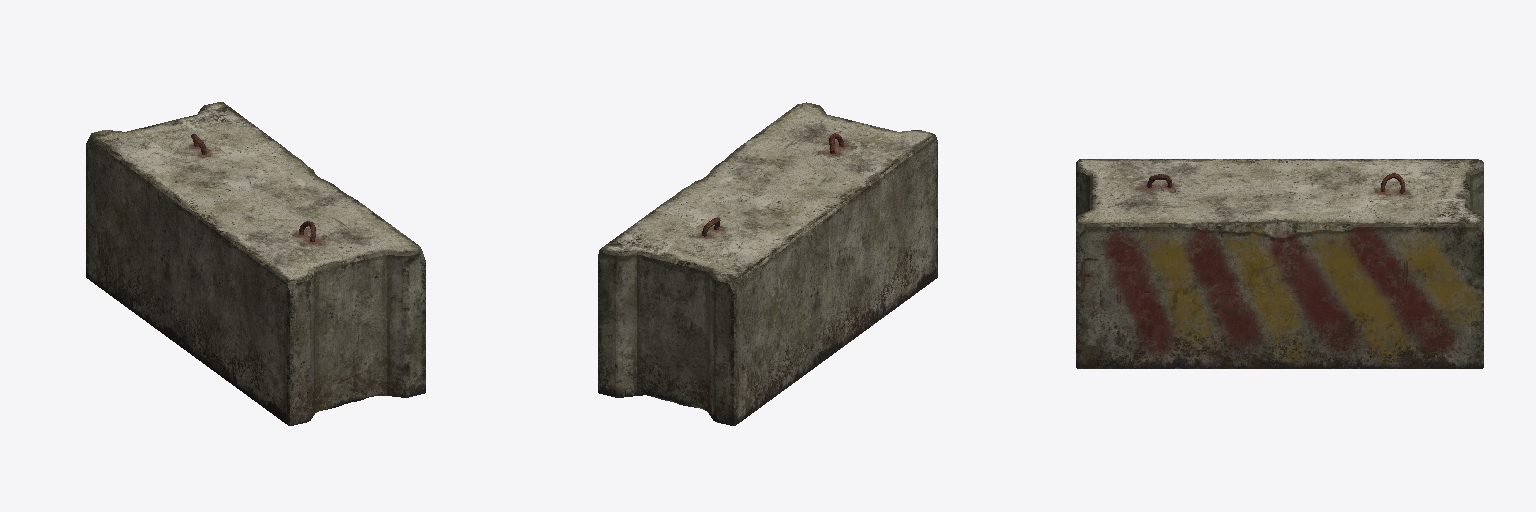
3 views of the same model, side by side, from view 1: azimuth 30°, elevation 25°; view 2: azimuth 150°, elevation 25°; view 3: azimuth 270°, elevation 25° (orthographic).
Visible parts, largest first — view 1: block_low_meshId1_name; view 2: block_low_meshId1_name; view 3: block_low_meshId1_name.
Boxes of the visible parts, box(x1,y1,x2,y2) form: block_low_meshId1_name: box(86, 102, 425, 425); block_low_meshId1_name: box(598, 102, 937, 425); block_low_meshId1_name: box(1076, 159, 1483, 368).
Size of the model in its own units: 0.7639 by 0.8548 by 1.97.
Materials: 2 (2 with a texture image).